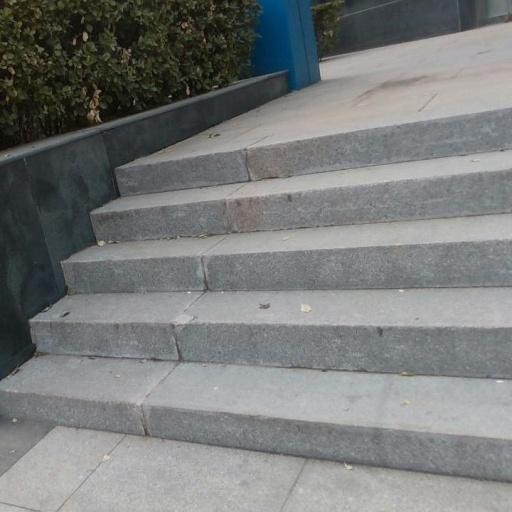stairs: (0, 111, 511, 480)
